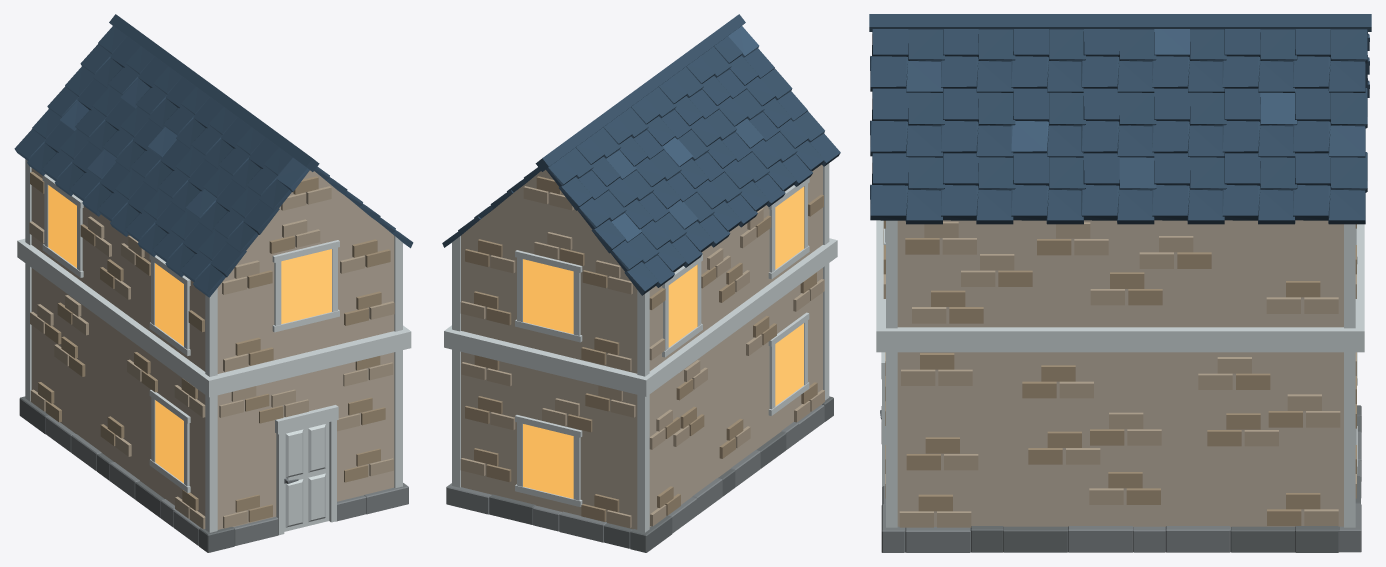
File: SM_House_6.fbx
3 views of the same model, side by side, from view 1: azimuth 30°, elevation 25°; view 2: azimuth 150°, elevation 25°; view 3: azimuth 270°, elevation 25° (orthographic). The views are drawn at different scales.
Parts seen in each view (by area): view 1: SM_House_6_LOD0; view 2: SM_House_6_LOD0; view 3: SM_House_6_LOD0.
Part boxes in pixels (left/top/right/bottom): SM_House_6_LOD0: left=14, top=14, right=413, bottom=552; SM_House_6_LOD0: left=442, top=14, right=840, bottom=552; SM_House_6_LOD0: left=869, top=14, right=1371, bottom=552.
Bounding box in the file's own units: 457 × 757 × 791.
Materials: 1 (1 with a texture image).
